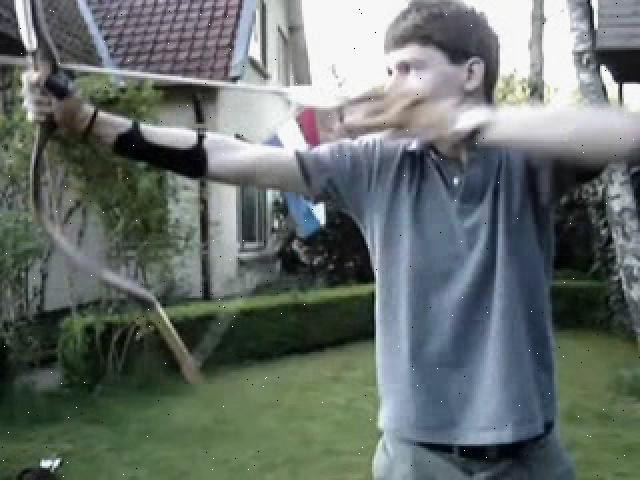P: (17, 7, 566, 480)
